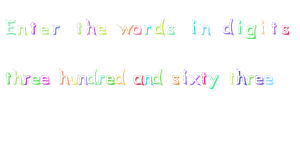E: (4, 17, 17, 37)
a: (132, 72, 144, 87)
d: (222, 18, 236, 36), (154, 18, 166, 37), (115, 68, 127, 87), (86, 67, 98, 85), (152, 68, 163, 86)
e: (38, 24, 50, 36), (95, 23, 107, 35), (30, 74, 42, 86), (39, 74, 51, 86), (105, 72, 115, 86), (254, 73, 264, 87), (264, 73, 274, 87)
g: (244, 23, 258, 41)
h: (58, 66, 71, 86), (84, 17, 97, 36), (235, 66, 246, 88), (12, 66, 23, 86)
i: (189, 18, 198, 36), (181, 66, 189, 85), (259, 18, 267, 35), (236, 20, 244, 36)
n: (199, 23, 213, 37), (16, 22, 27, 36), (77, 72, 88, 86), (143, 72, 153, 87)
o: (131, 23, 143, 36)
r: (50, 22, 61, 36), (143, 24, 154, 36), (97, 72, 106, 86), (245, 71, 253, 85), (22, 73, 31, 85)
s: (280, 22, 290, 36), (170, 74, 181, 86), (166, 24, 176, 36)
t: (27, 19, 38, 36), (268, 21, 280, 35), (200, 69, 208, 86), (3, 71, 12, 85), (227, 71, 235, 86), (75, 20, 82, 36)
u: (68, 73, 80, 86)
w: (117, 23, 134, 36)
x: (188, 72, 201, 86)
y: (208, 74, 219, 90)
